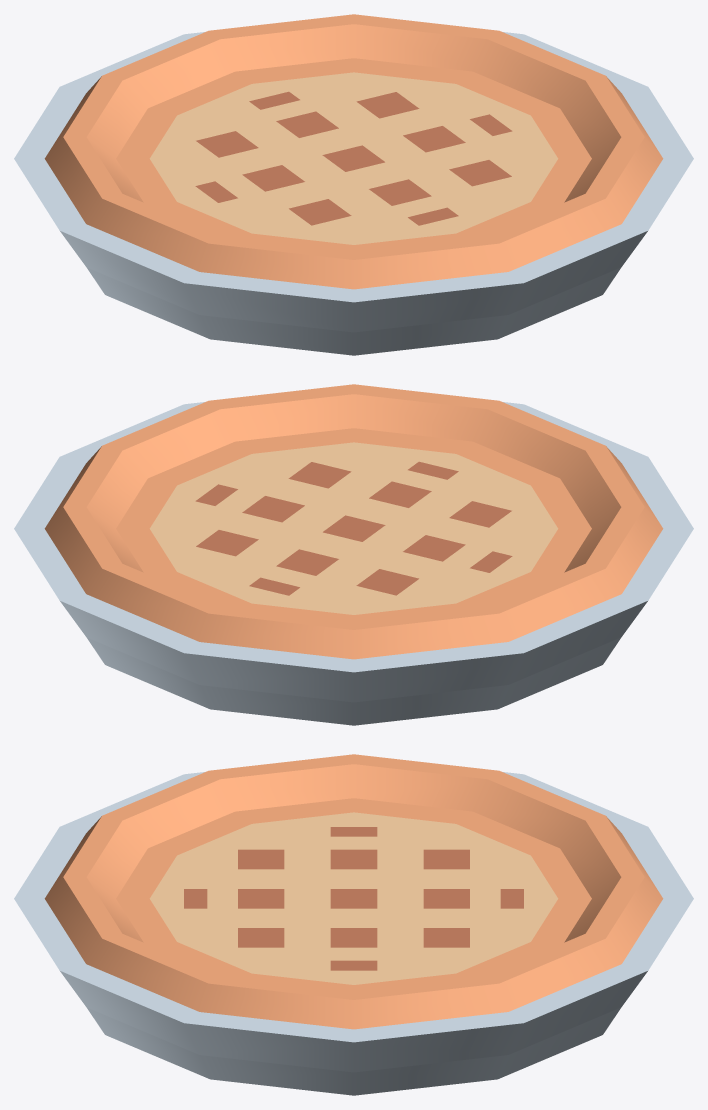
File: pie.gltf
3 renders of one model, top to bottom at view 1: azimuth 30°, elevation 25°; view 2: azimuth 150°, elevation 25°; view 3: azimuth 270°, elevation 25°, orthographic.
Visible parts, largest first — view 1: pie; view 2: pie; view 3: pie.
Part boxes in pixels (x1,y1,x2,y2): pie: (14,14,693,355); pie: (14,384,693,725); pie: (14,754,693,1095).
Bounding box in the file's own units: 0.9504 × 0.1497 × 0.9504.
